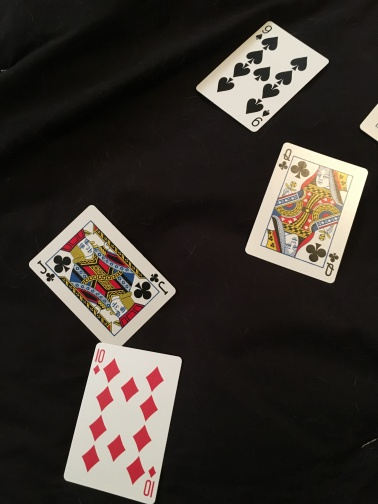jack: (30, 203, 177, 348)
nine: (194, 18, 330, 134)
queen: (245, 140, 369, 283)
ten: (63, 340, 185, 504)
